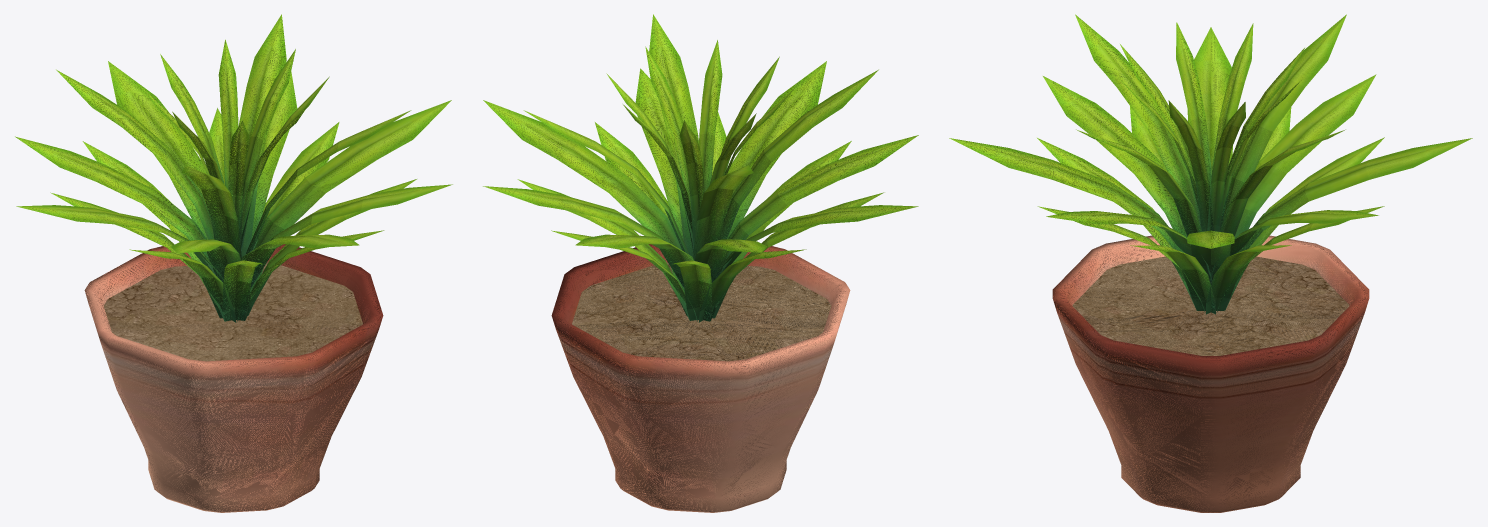
Rendered from sh_blend_swap_cc_0_littleplant.glb.
The picture shows the model from 3 angles, left to right: view 1: azimuth 30°, elevation 25°; view 2: azimuth 150°, elevation 25°; view 3: azimuth 270°, elevation 25°; orthographic projection. The views are drawn at different scales.
Bounding box in the file's own units: 0.266 × 0.232 × 0.266.
Materials: 3 (3 with a texture image).
